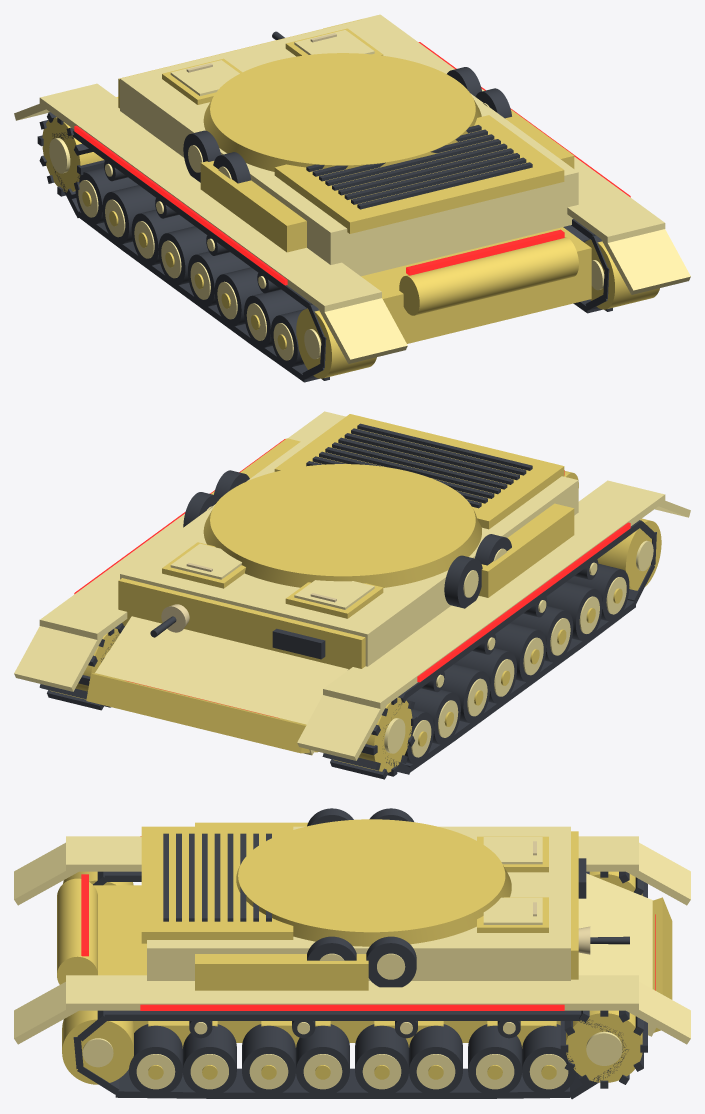
Rendered from Wirbelwind_hull.glb.
3 views of the same model, one above another, from view 1: azimuth 30°, elevation 25°; view 2: azimuth 150°, elevation 25°; view 3: azimuth 270°, elevation 25° (orthographic).
Visible parts, largest first — view 1: Wirbelwind_Hull; view 2: Wirbelwind_Hull; view 3: Wirbelwind_Hull.
Part boxes in pixels (left/top/right/bottom): Wirbelwind_Hull: left=14, top=14, right=690, bottom=382; Wirbelwind_Hull: left=14, top=411, right=690, bottom=779; Wirbelwind_Hull: left=14, top=808, right=690, bottom=1099.
Size of the model in its own units: 3.12 by 1.26 by 5.27.
